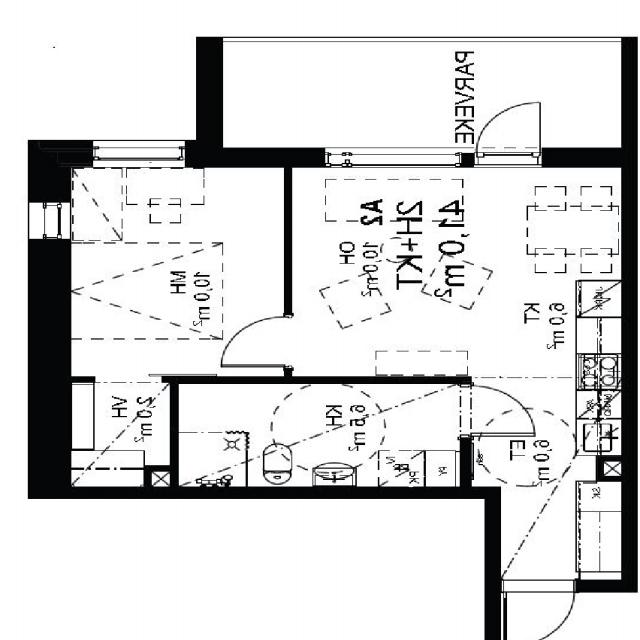door: (477, 96, 541, 166), (505, 579, 575, 640), (461, 385, 534, 435), (222, 316, 293, 366)
